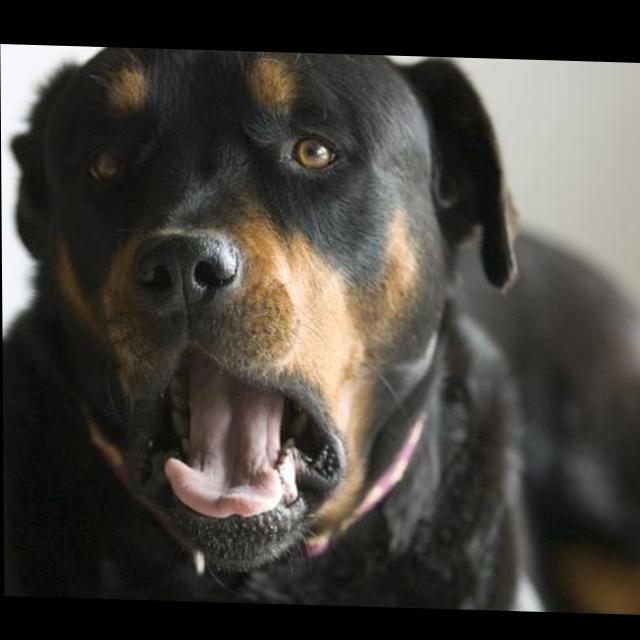rottweiler: (1, 45, 640, 612)
